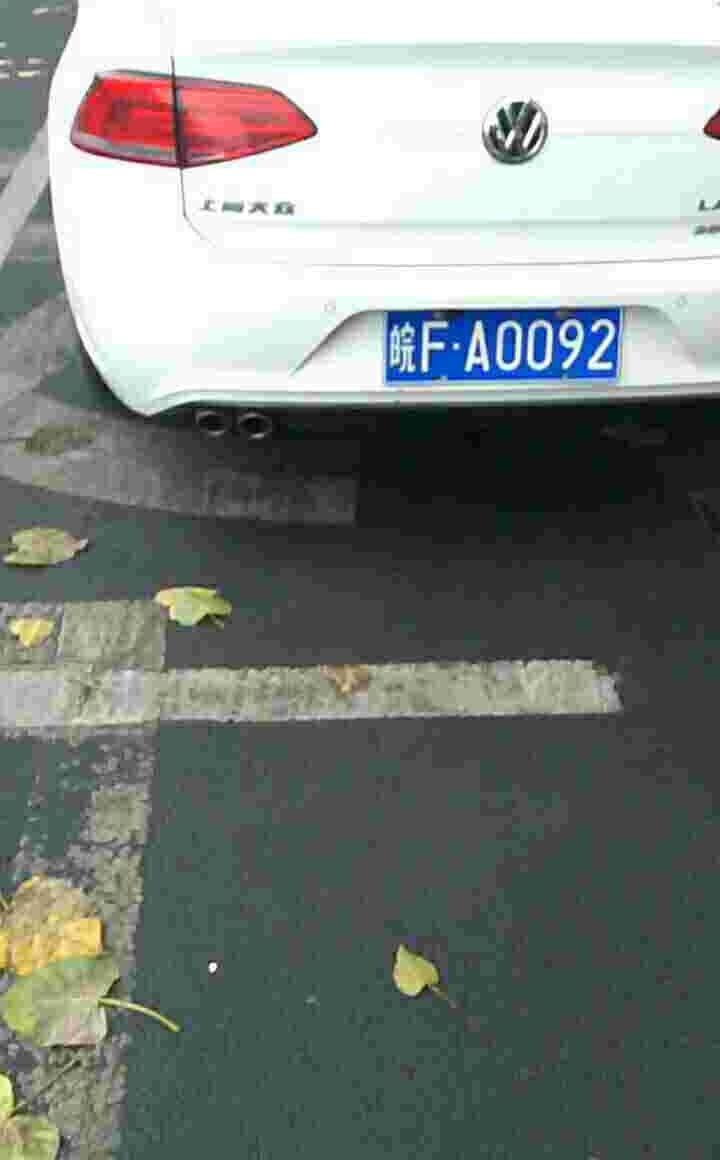plate: (384, 303, 629, 389)
